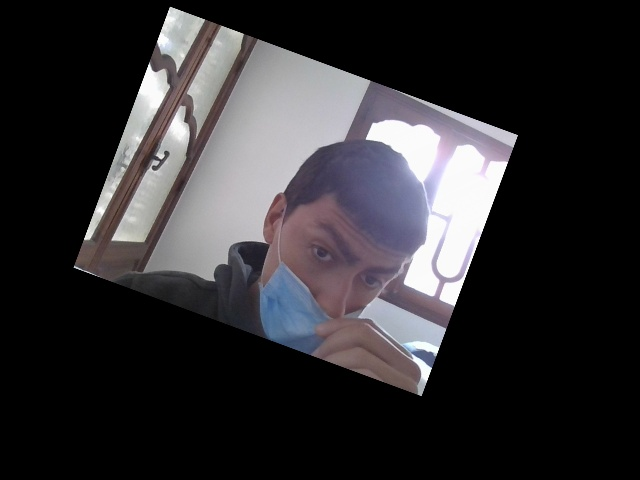mask_weared_incorrect: (262, 159, 416, 370)
